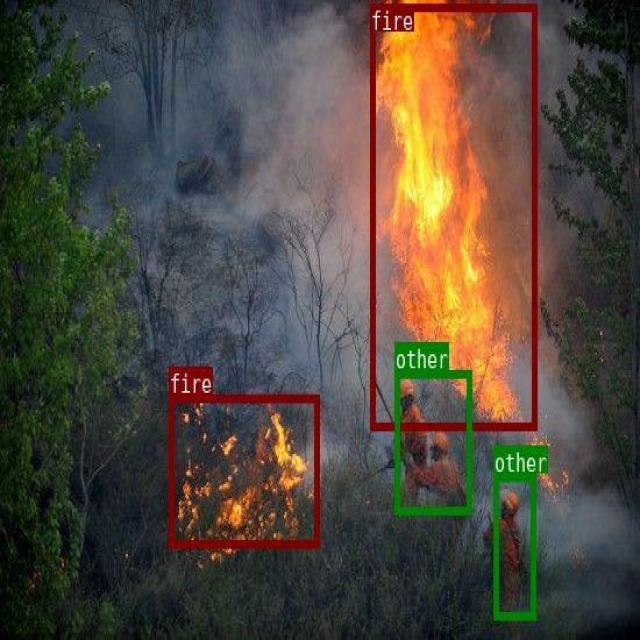fire: (369, 2, 536, 428), (168, 393, 318, 547)
